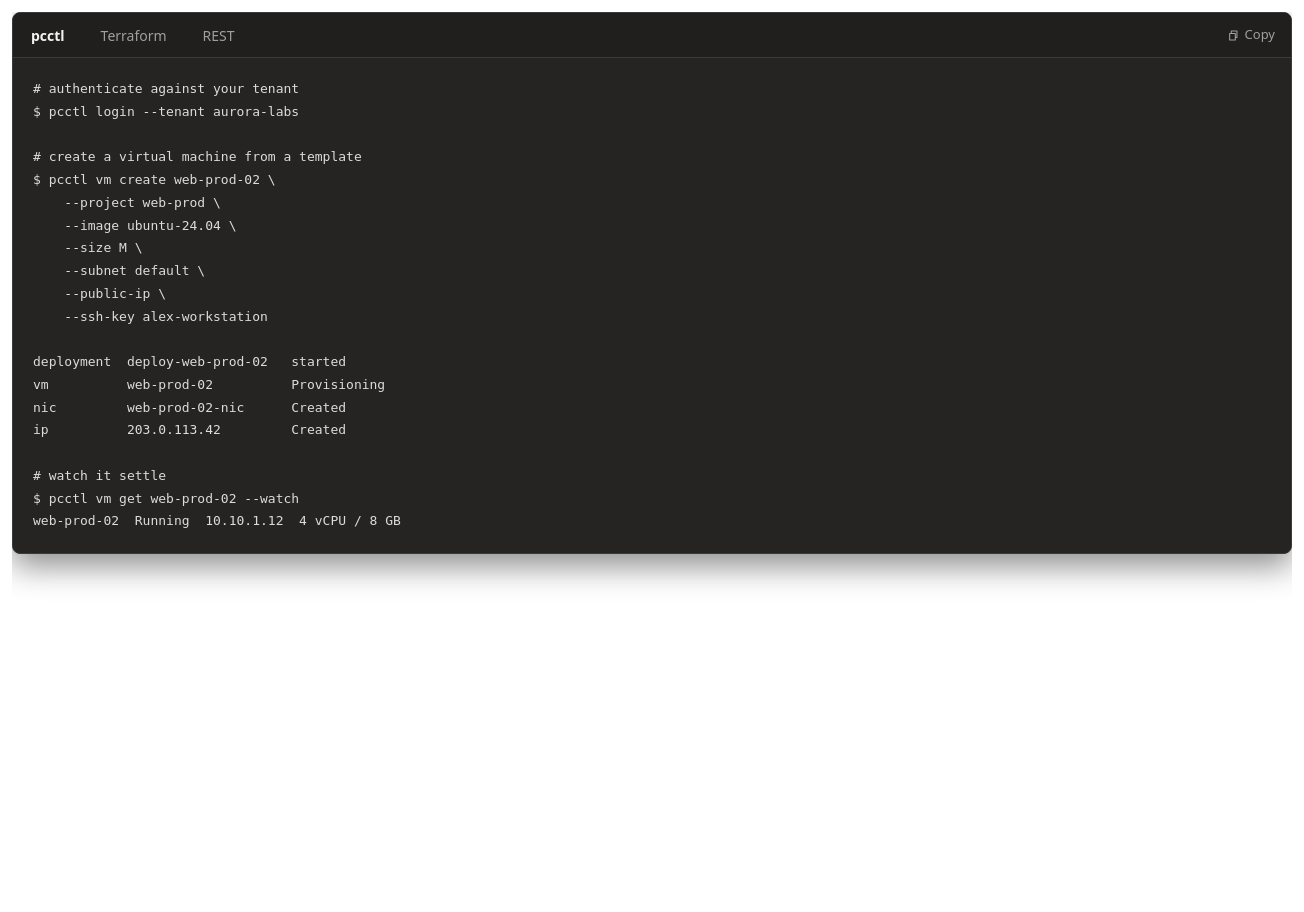
CodeBlock tabs › switches to the Terraform and REST snippets
Click the tab "Terraform" at {"x": 134, "y": 36}, box [83,13,185,58]
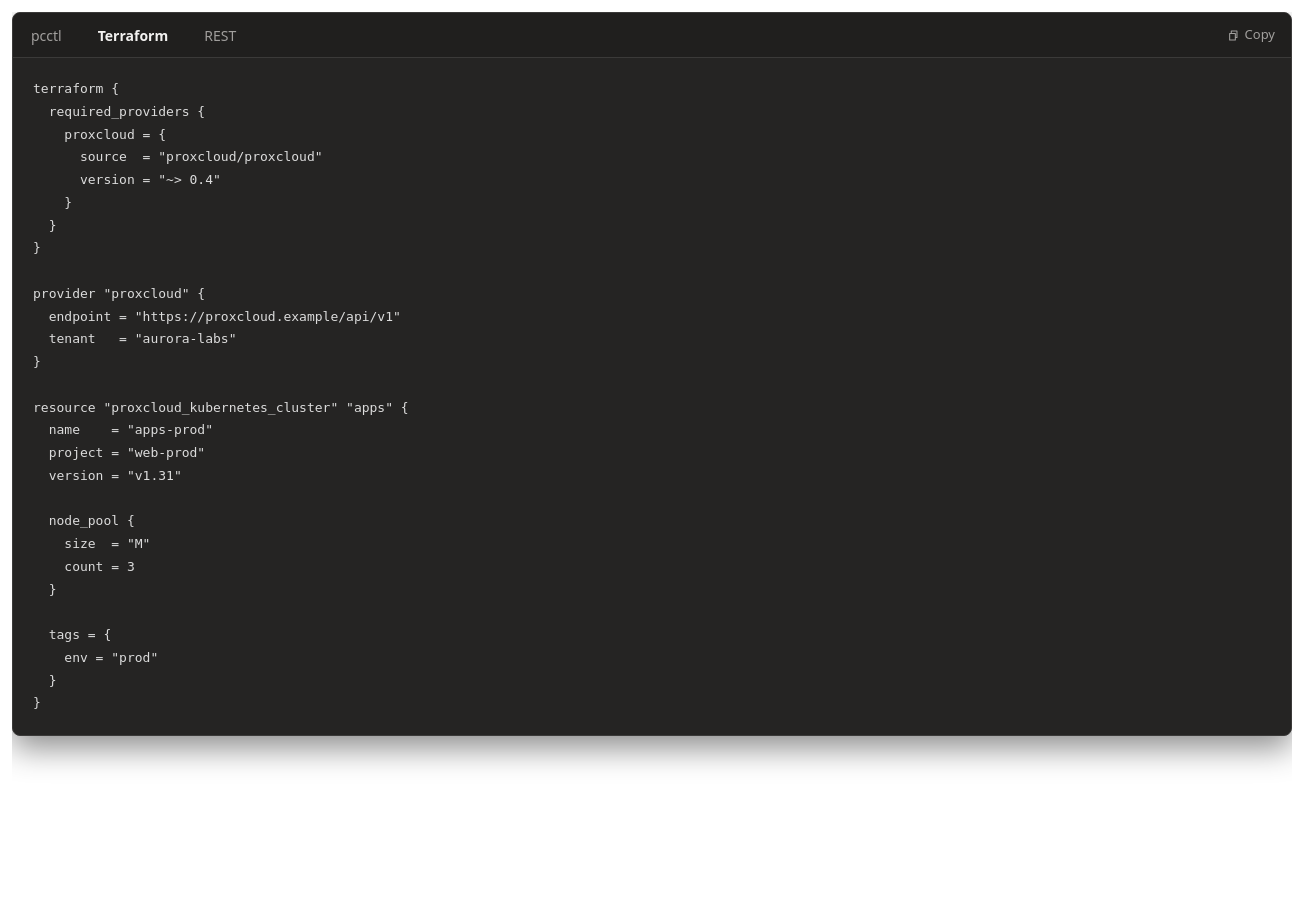
Expected: the panel shows "required_providers", [33,81,409,710]
Click the tab "REST" at {"x": 220, "y": 36}, box [186,13,254,58]
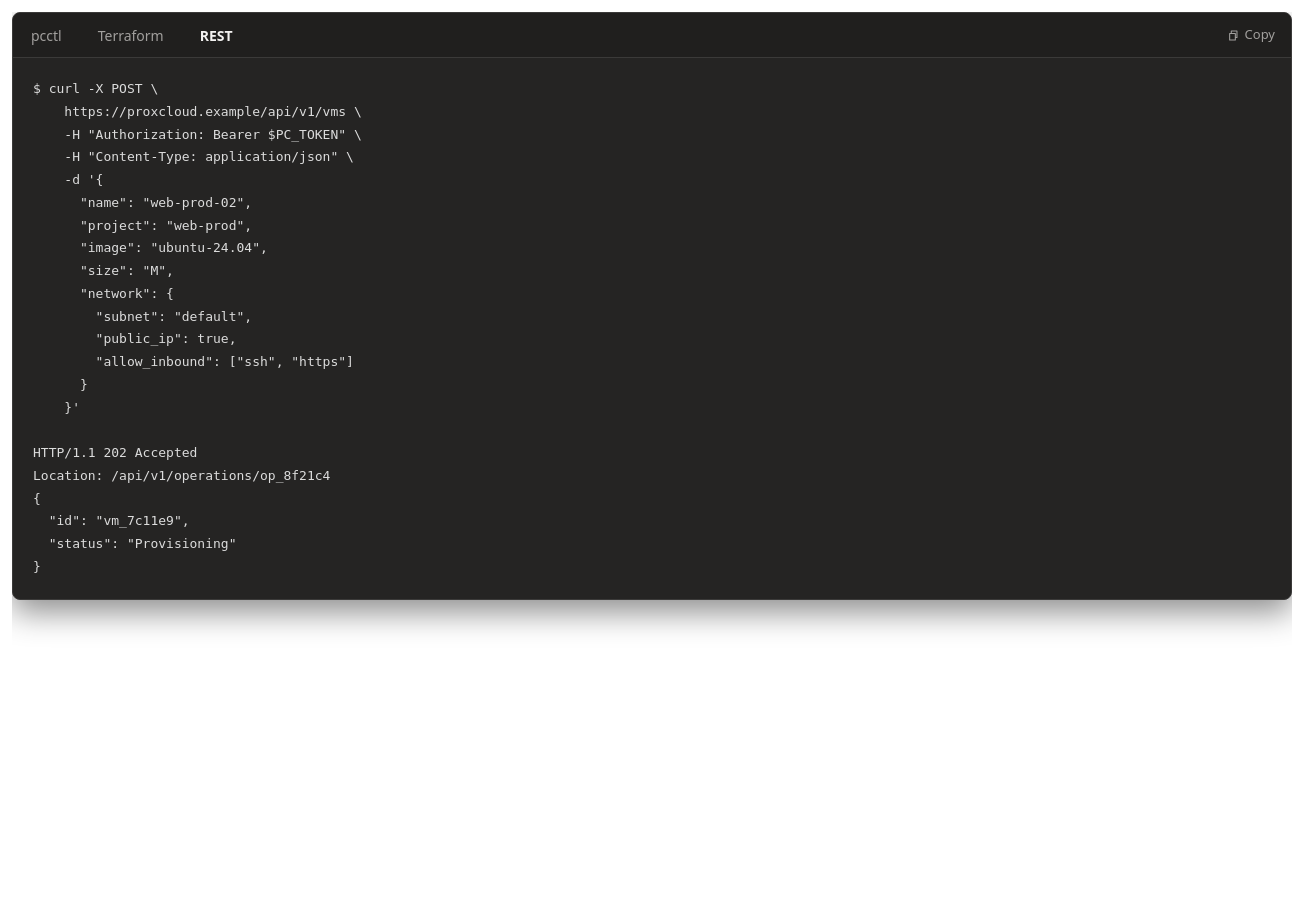
Expected: the panel shows "HTTP/1.1 202 Accepted", [33,81,362,574]
